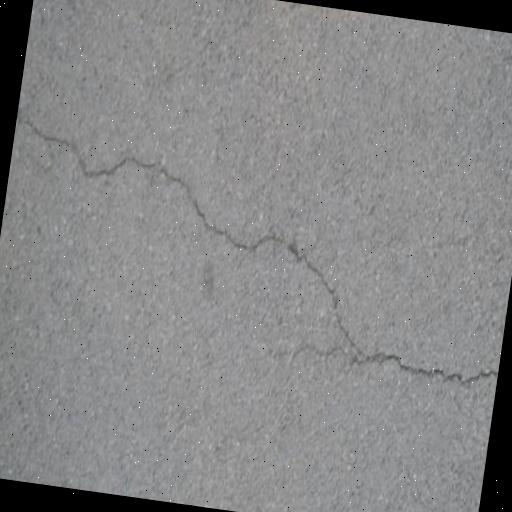spalling: (24, 105, 492, 387)
